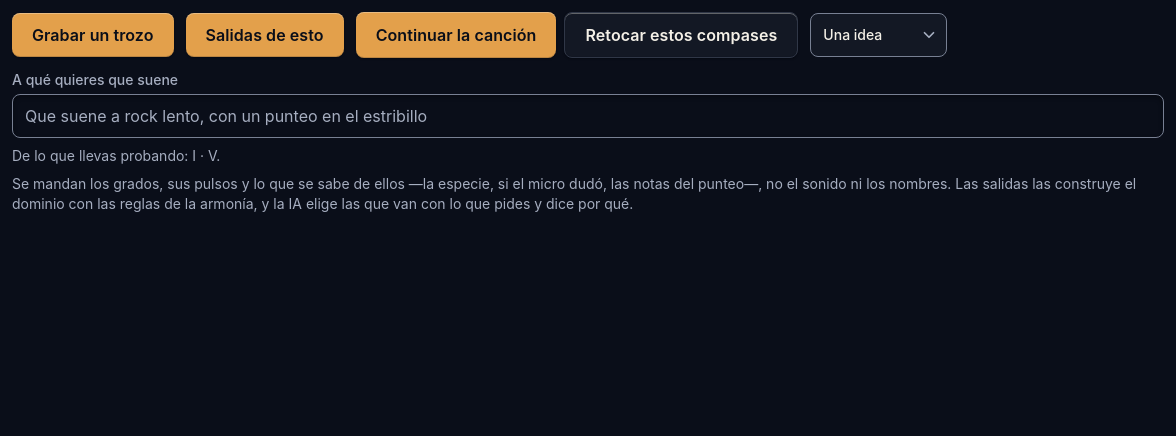
Test case: escuchar una versión › el mismo botón la para: escuchando dos seguidas, lo que quieres es cortarla
What coordinates should you click on to do the following:
click the button "Salidas de esto"
I would click on:
 (265, 35)
Its box is [186,13,344,57].
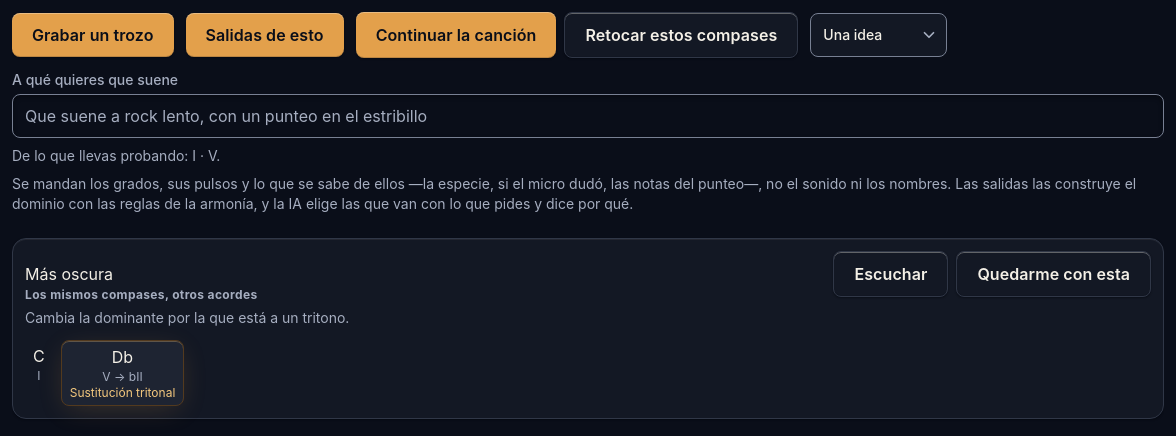
Expected: the heading "Más oscura" is shown, [25,264,113,284]
What coordinates should you click on to do the following:
click the button "Escuchar"
I would click on:
 (891, 274)
Its box is [834,251,948,297].
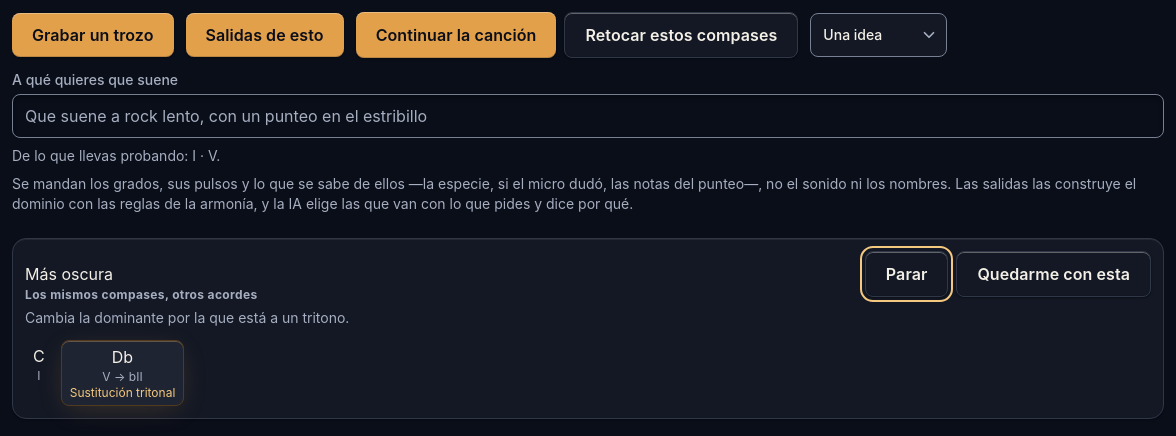
Expected: the button "Parar" is shown
What coordinates should you click on to do the following:
click the button "Parar"
I would click on:
 (907, 274)
Its box is [865,251,948,297].
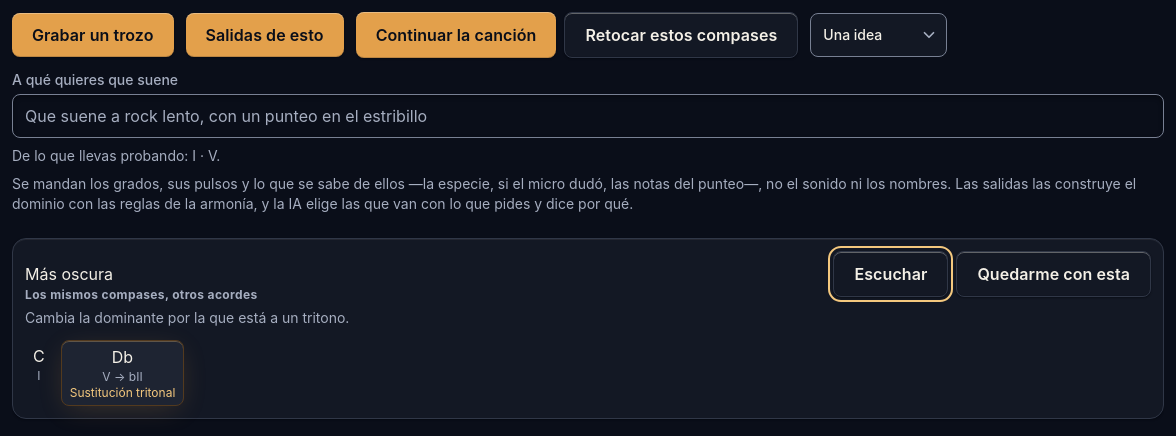
Expected: the button "Escuchar" is shown, [834,251,948,297]
